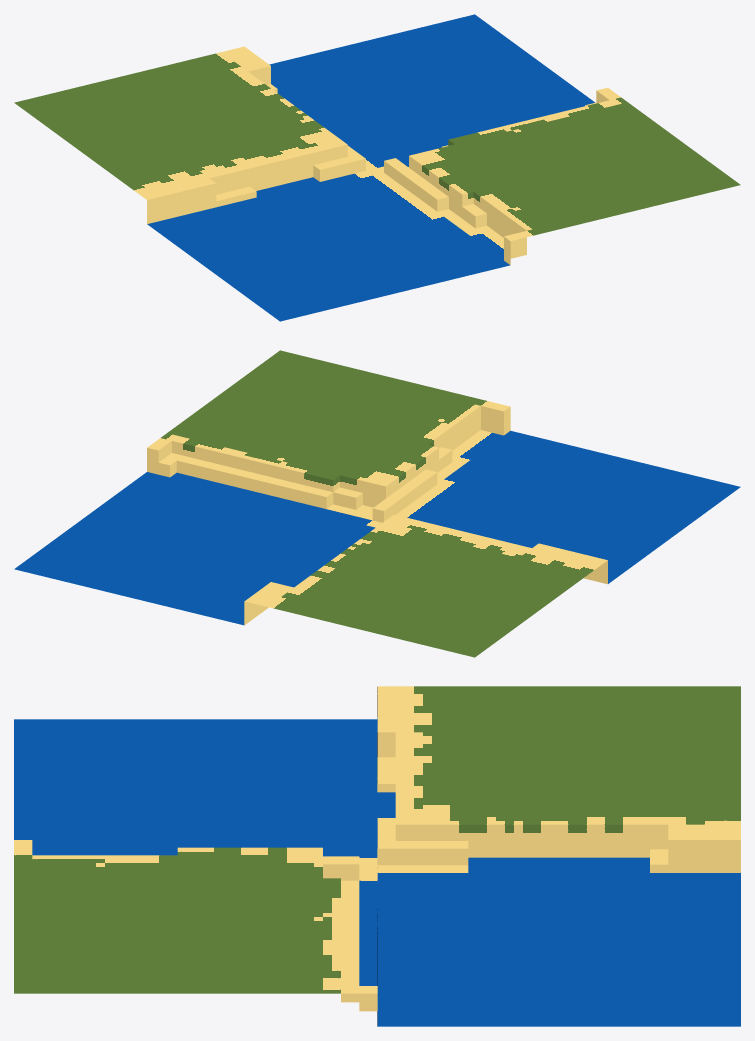
The model's file is LWLW(1).glb.
3 renders of one model, top to bottom at view 1: azimuth 30°, elevation 25°; view 2: azimuth 150°, elevation 25°; view 3: azimuth 270°, elevation 25°, orthographic. The views are drawn at different scales.
Visible parts, largest first — view 1: model_0.006; view 2: model_0.006; view 3: model_0.006.
Part boxes in pixels (box(x1,y1,x2,y2)): model_0.006: box(14, 14, 740, 321); model_0.006: box(14, 350, 740, 657); model_0.006: box(14, 686, 740, 1026).
Bounding box in the file's own units: 80 × 4 × 80.
1 material, 1 textured.
